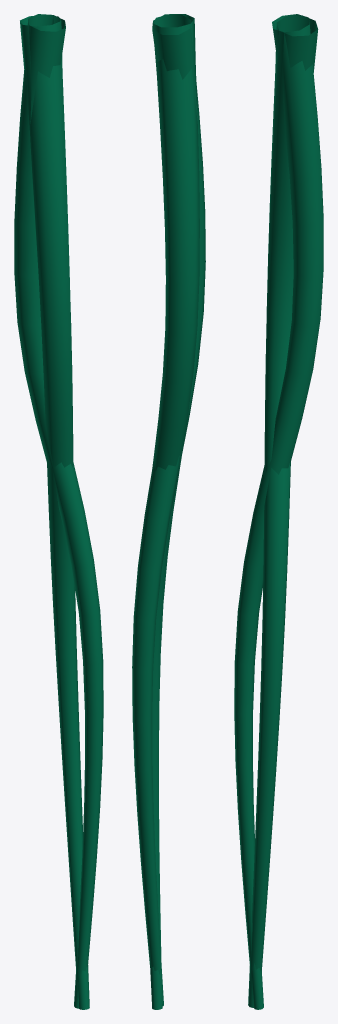
File: NormalVinedual_01.fbx
3 views of the same model, side by side, from view 1: azimuth 90°, elevation 25°; view 2: azimuth 210°, elevation 25°; view 3: azimuth 270°, elevation 25° (orthographic).
Parts seen in each view (by area): view 1: normalVineversion02_04; view 2: normalVineversion02_04; view 3: normalVineversion02_04.
Boxes of the visible parts, box(x1,y1,x2,y2) form: normalVineversion02_04: box(14, 14, 103, 1009); normalVineversion02_04: box(132, 14, 205, 1009); normalVineversion02_04: box(234, 14, 323, 1009).
Size of the model in its own units: 0.8035 by 12.26 by 1.01.
